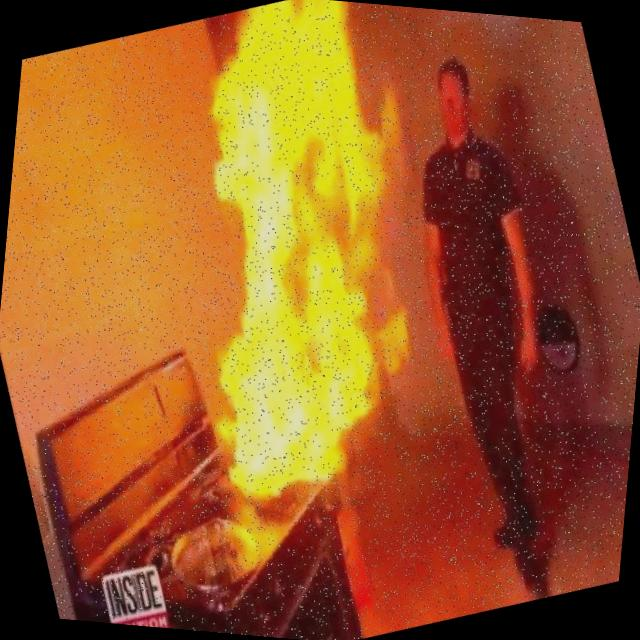fire: (40, 0, 510, 573)
